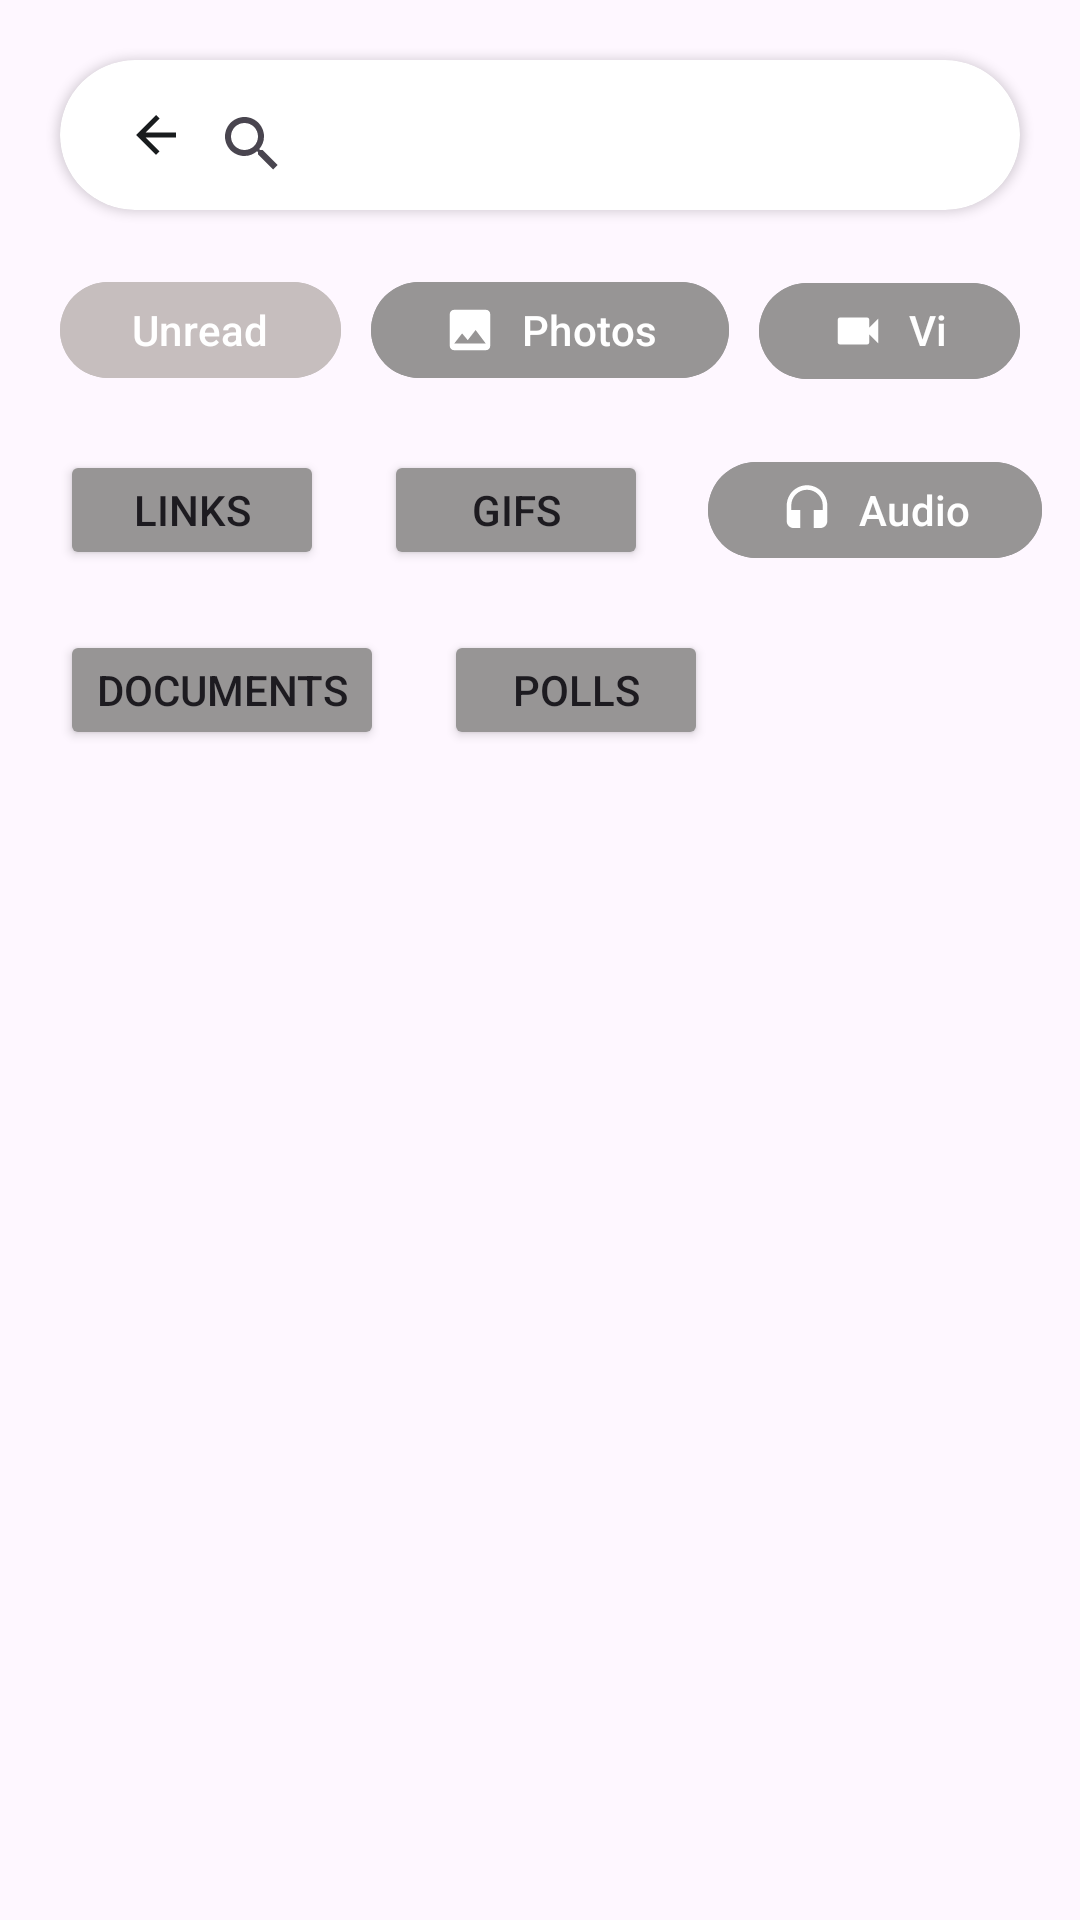

Icons on this 1080 x 1920 Android screen, each with its box as region(x1, y1, x2, y2):
backaero searchingin: region(136, 115, 176, 155)
